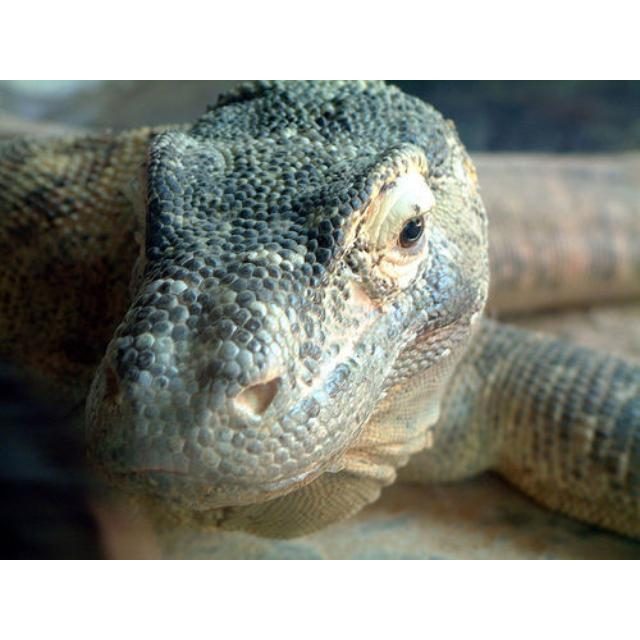KomodoDragon: (1, 80, 637, 534)
